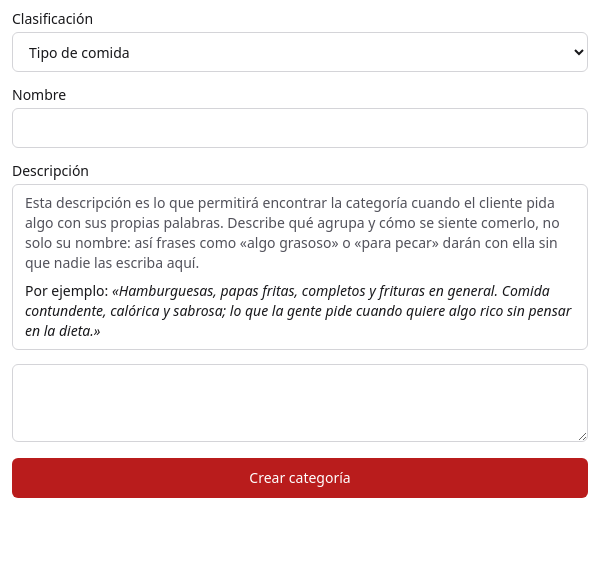
Test: Formulario de categoría · alta (FR-002, FR-003) › presenta un fallo del sistema como aviso, sin perder lo escrito
This screenshot has width=609, height=569.
In the field labelled "Nombre": (300, 128) [12,108,588,148], type "Pizzas"
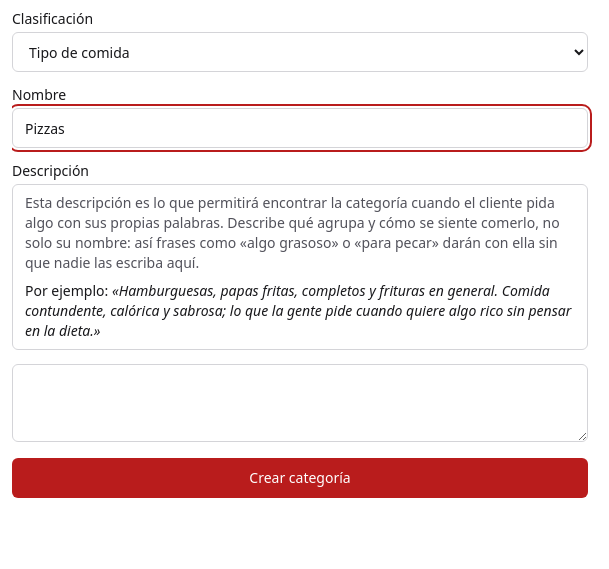
In the text box labelled "Descripción": (300, 403) [12,364,588,442], type "Agrupa preparaciones horneadas de masa con distintas combinaciones de queso y verduras."
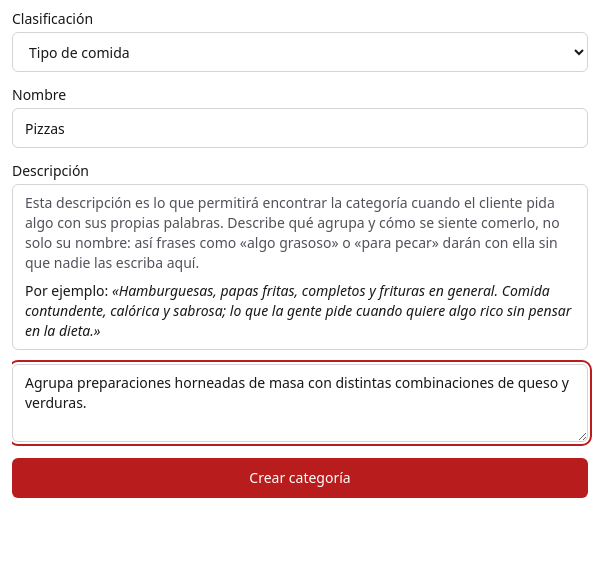
Click the button "Crear categoría": (300, 478) [12,458,588,498]
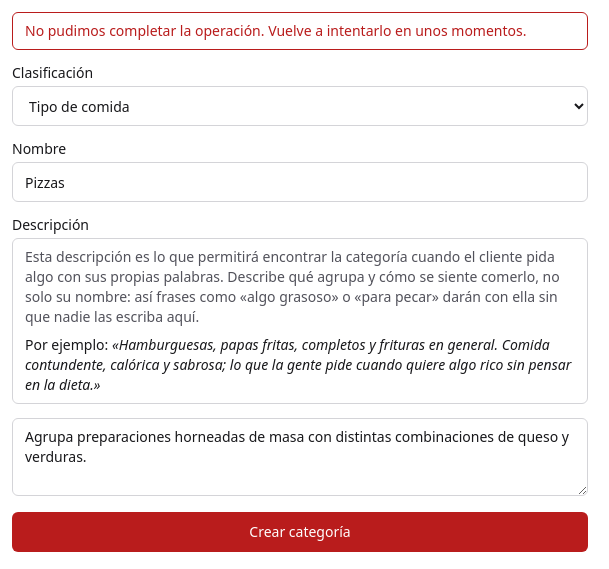
expect the message reads "No pudimos completar la operación. Vuelve a intentarlo en unos momentos.": met, box [25,21,526,40]
